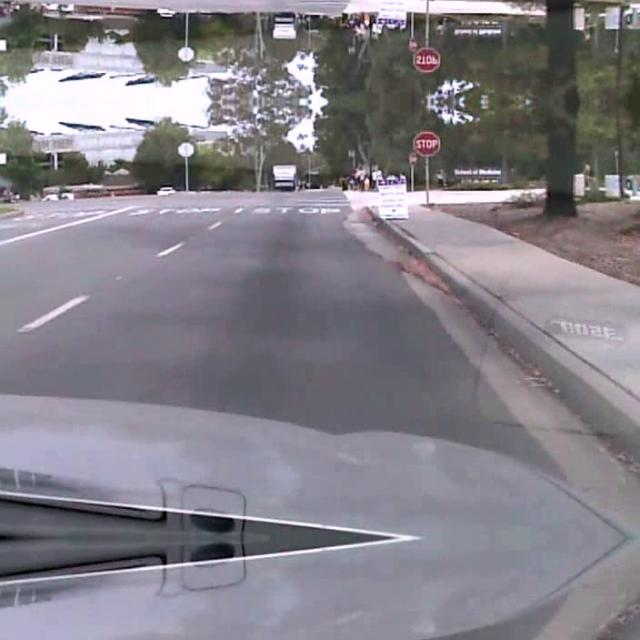stop: (412, 129, 440, 155), (412, 47, 440, 73)
